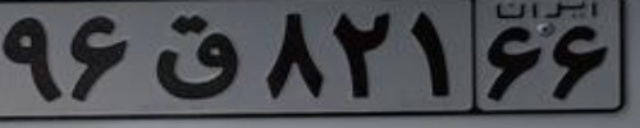1: (410, 11, 450, 97)
2: (330, 11, 395, 99)
6: (66, 16, 129, 103), (483, 25, 540, 101), (550, 24, 607, 100)
8: (265, 13, 324, 100)
9: (3, 16, 62, 104)
ghaf: (151, 14, 239, 102)
